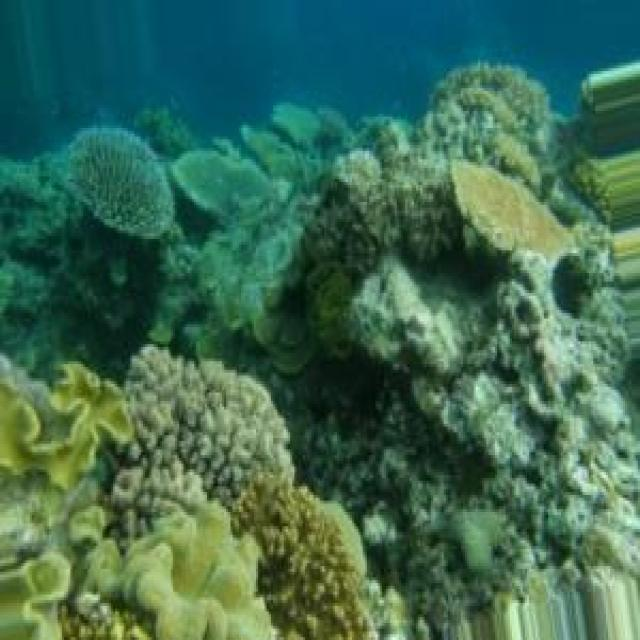healthy coral: (110, 348, 292, 539), (234, 472, 372, 638), (124, 502, 272, 638), (0, 357, 132, 489), (424, 63, 552, 191), (69, 130, 174, 238), (452, 162, 570, 258), (0, 550, 71, 638)
